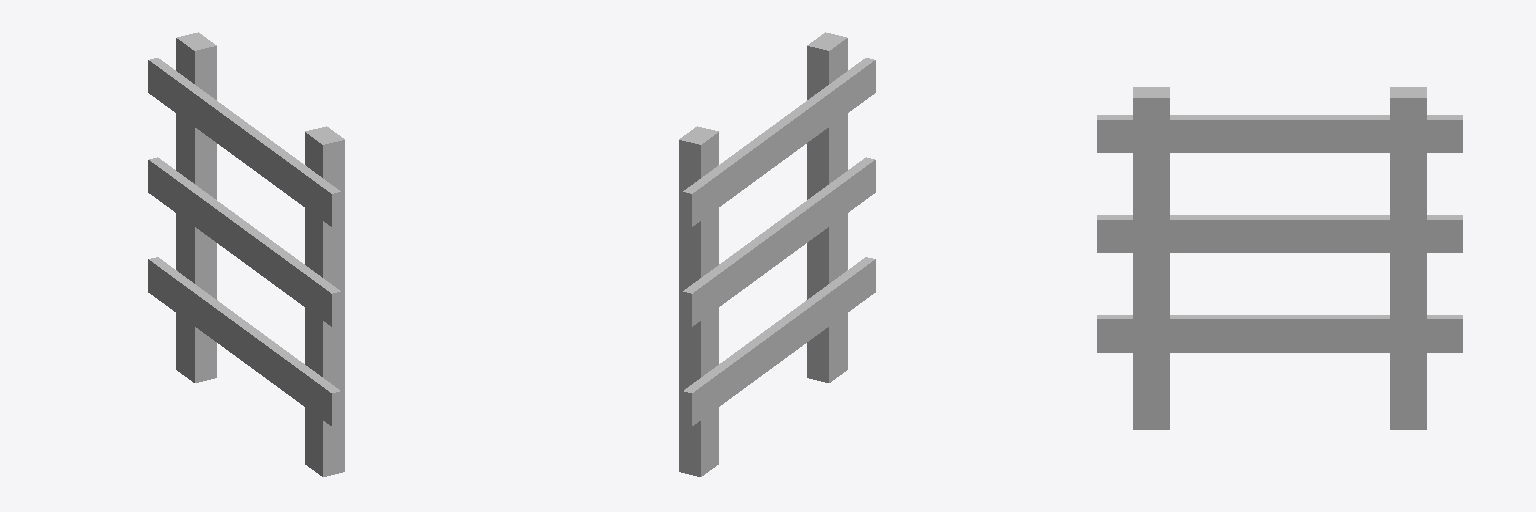
File: woodfencex-.obj
The picture shows the model from 3 angles: view 1: azimuth 30°, elevation 25°; view 2: azimuth 150°, elevation 25°; view 3: azimuth 270°, elevation 25°; orthographic projection.
Visible parts, largest first — view 1: bedx+.018; view 2: bedx+.018; view 3: bedx+.018.
Boxes of the visible parts, x1,y1,x2,y2 form: bedx+.018: [148, 32, 344, 476]; bedx+.018: [679, 32, 875, 476]; bedx+.018: [1097, 87, 1462, 429].
Bounding box in the file's own units: 0.1 × 1 × 1.